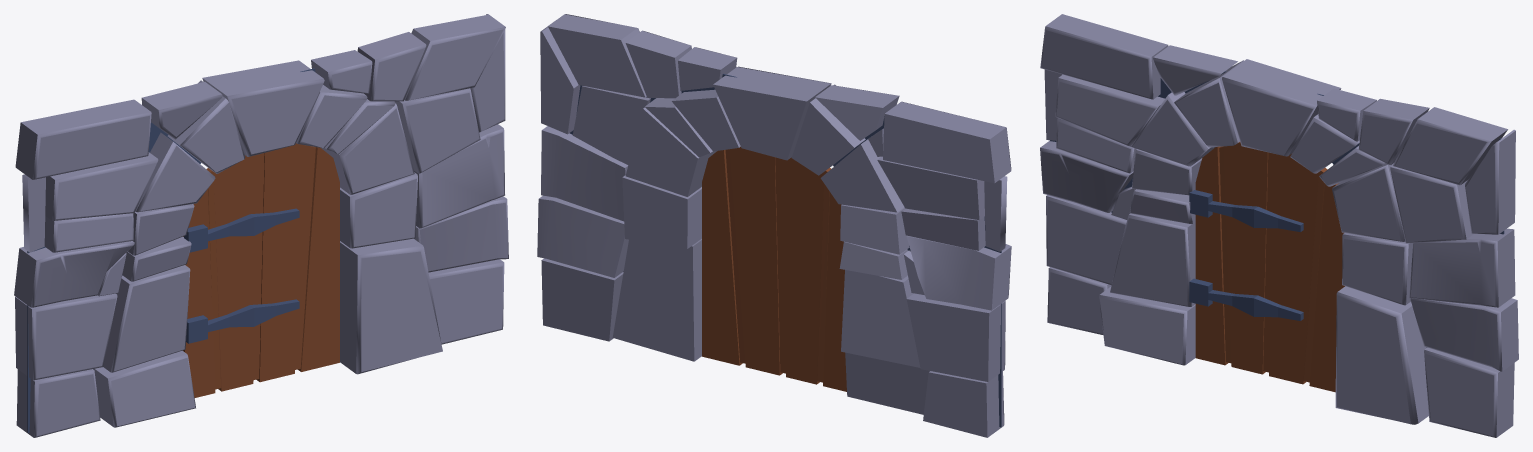
The model's file is door_small_wall 1.fbx.
The picture shows the model from 3 angles, left to right: view 1: azimuth 30°, elevation 25°; view 2: azimuth 150°, elevation 25°; view 3: azimuth 330°, elevation 25°; orthographic projection. The views are drawn at different scales.
Visible parts, largest first — view 1: Cube.002; view 2: Cube.002; view 3: Cube.002.
Part boxes in pixels (box(x1,y1,x2,y2)): Cube.002: box(14, 14, 508, 437); Cube.002: box(537, 14, 1011, 437); Cube.002: box(1040, 14, 1518, 437).
Size of the model in its own units: 616 by 385 by 85.78.
